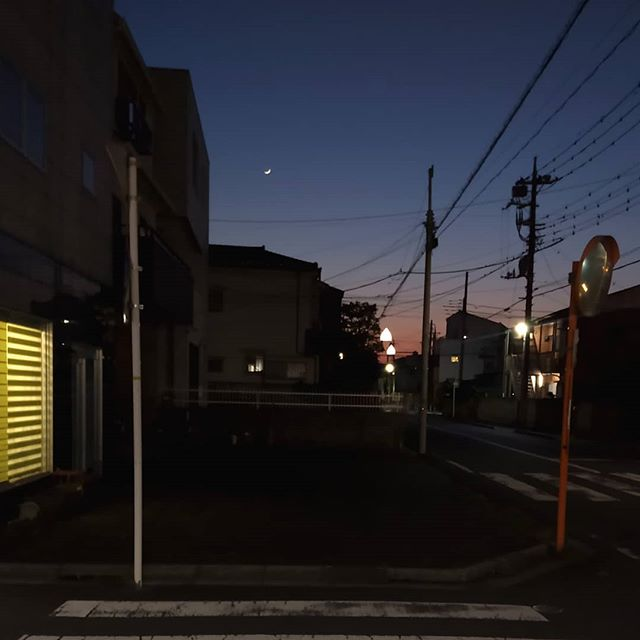building: (1, 23, 216, 402), (203, 240, 340, 402), (522, 286, 640, 457), (436, 302, 519, 424)
crosswalk: (36, 555, 543, 640), (489, 454, 638, 515)
sky: (229, 1, 640, 252)
